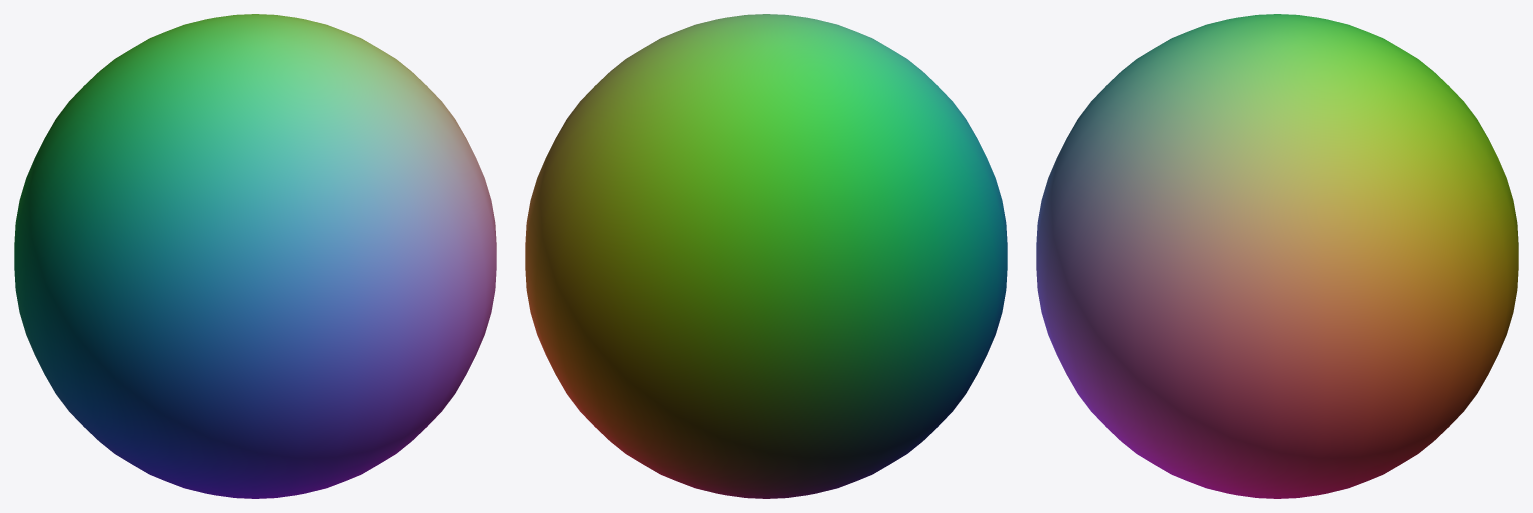
The model's file is zeometry-basic-shapes-sphere_v16.glb.
The picture shows the model from 3 angles, left to right: view 1: azimuth 30°, elevation 25°; view 2: azimuth 150°, elevation 25°; view 3: azimuth 270°, elevation 25°; orthographic projection.
Visible parts, largest first — view 1: Sphere_v16; view 2: Sphere_v16; view 3: Sphere_v16.
Part boxes in pixels (x1,y1,x2,y2): Sphere_v16: (14, 14, 496, 498); Sphere_v16: (525, 14, 1007, 498); Sphere_v16: (1036, 14, 1518, 498).
Size of the model in its own units: 0.5 by 0.5 by 0.4973.
